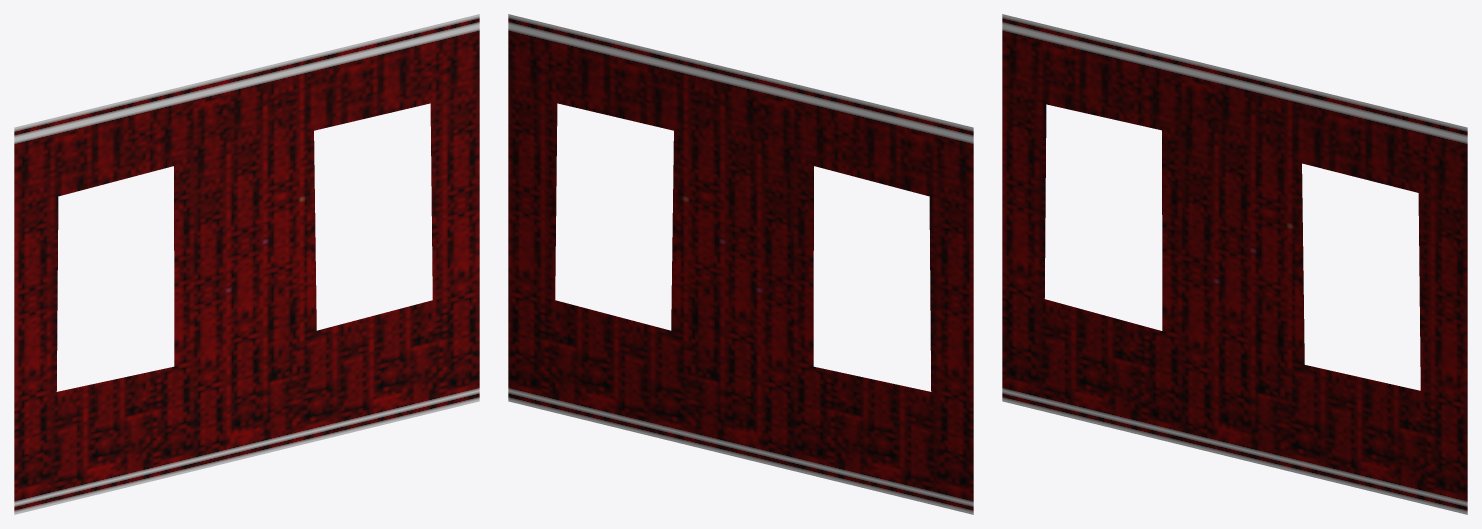
File: W_AI1_ff [Rot]_2106.glb
The picture shows the model from 3 angles, left to right: view 1: azimuth 30°, elevation 25°; view 2: azimuth 150°, elevation 25°; view 3: azimuth 330°, elevation 25°; orthographic projection.
Visible parts, largest first — view 1: pPlaneShape1; view 2: pPlaneShape1; view 3: pPlaneShape1.
Boxes of the visible parts, box(x1,y1,x2,y2) form: pPlaneShape1: box(14, 14, 479, 514); pPlaneShape1: box(508, 14, 973, 514); pPlaneShape1: box(1002, 14, 1467, 514).
Bounding box in the file's own units: 0.4385 × 0.3486 × 1.34e-07.
1 material, 1 textured.
